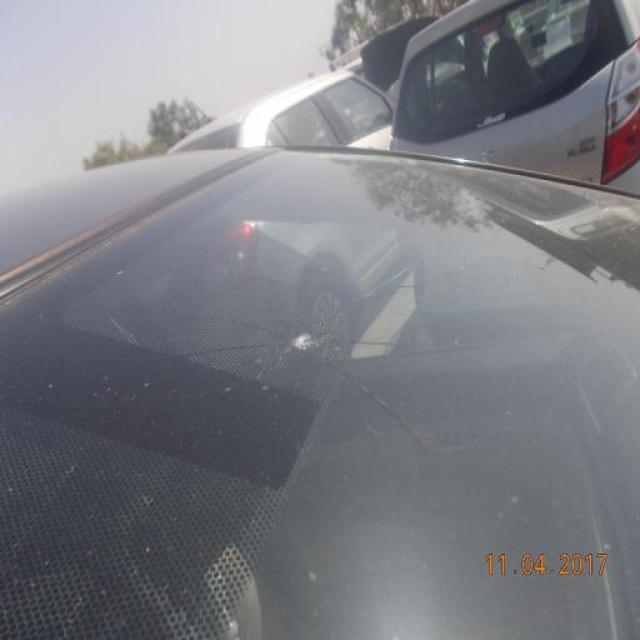crack: (248, 307, 366, 377)
